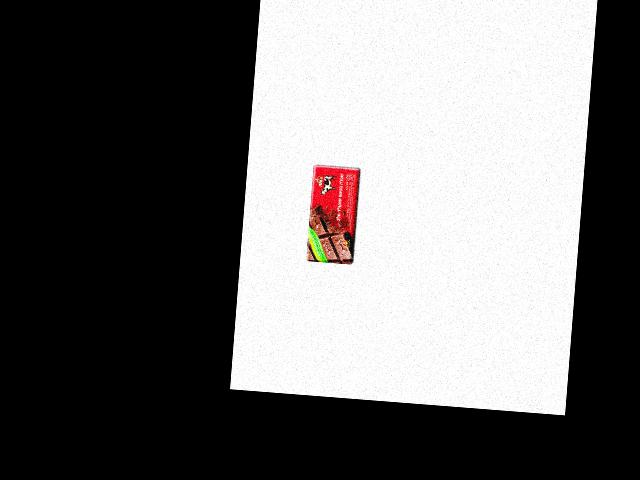chocolate: (304, 161, 365, 265)
